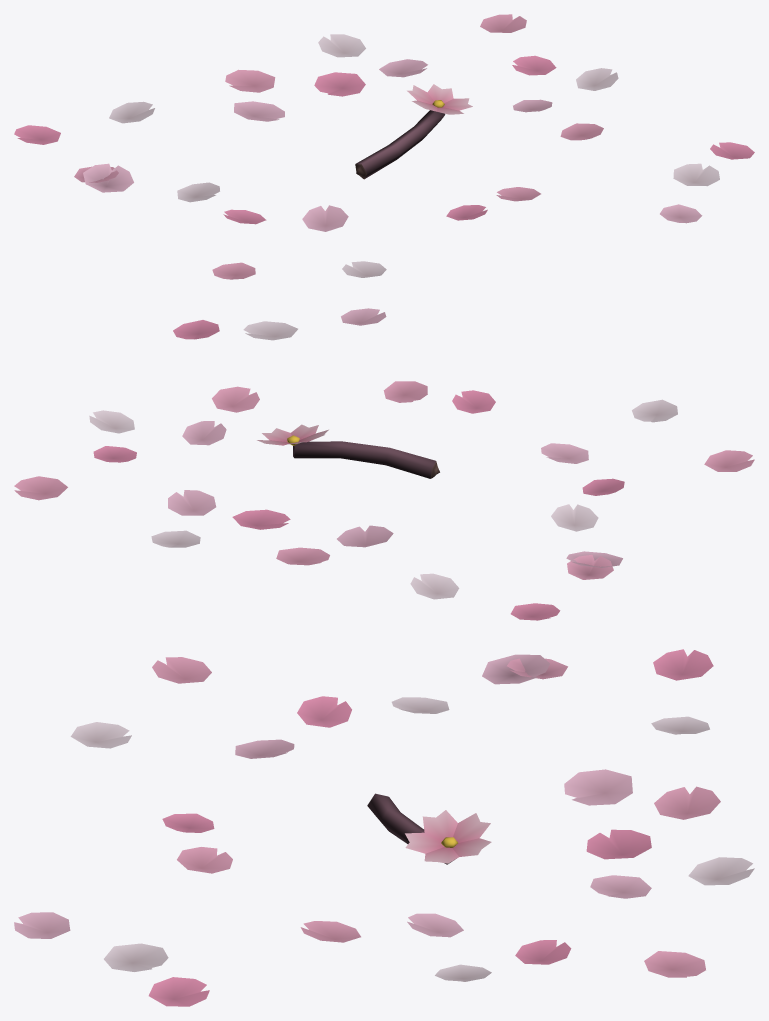
Rendered from prop-scav-petalDrift-taken.glb.
The picture shows the model from 3 angles, top to bottom: view 1: azimuth 30°, elevation 25°; view 2: azimuth 150°, elevation 25°; view 3: azimuth 270°, elevation 25°; orthographic projection. The views are drawn at different scales.
Parts seen in each view (by area): view 1: body; view 2: body; view 3: body.
Part boxes in pixels (x1=…): body: x1=14, y1=14, x2=754, y2=279; body: x1=14, y1=308, x2=754, y2=620; body: x1=14, y1=649, x2=754, y2=1006.
Bounding box in the file's own units: 1.42 × 0.1042 × 1.26.
